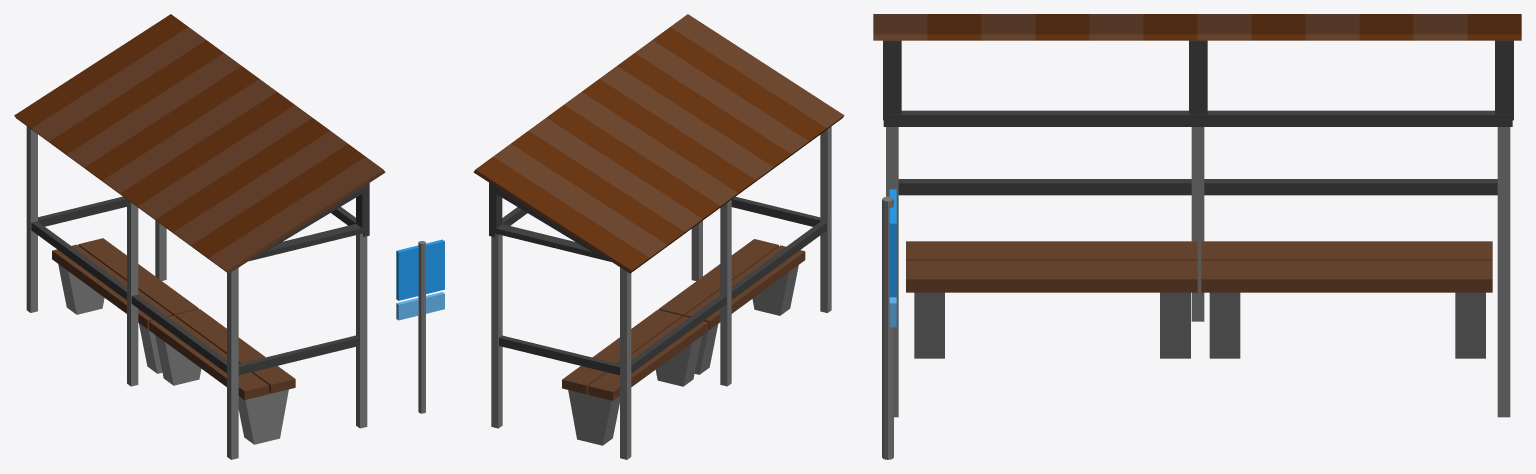
The model's file is bus_Stop.fbx.
The picture shows the model from 3 angles, left to right: view 1: azimuth 30°, elevation 25°; view 2: azimuth 150°, elevation 25°; view 3: azimuth 270°, elevation 25°; orthographic projection. The views are drawn at different scales.
Visible parts, largest first — view 1: bus_Stop; view 2: bus_Stop; view 3: bus_Stop.
Boxes of the visible parts, <box> form: bus_Stop: <box>14,14,444,459</box>; bus_Stop: <box>473,14,844,459</box>; bus_Stop: <box>873,14,1521,459</box>.
Bounding box in the file's own units: 257 × 283 × 424.
Materials: 1 (1 with a texture image).
